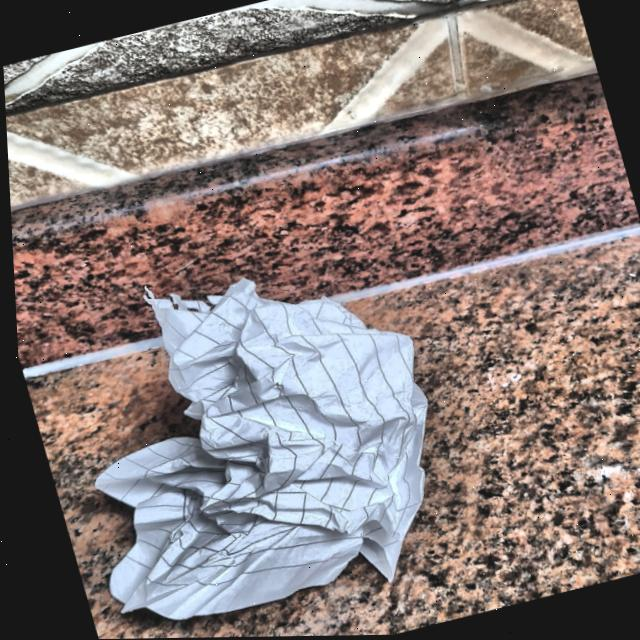paper: (23, 233, 489, 640)
